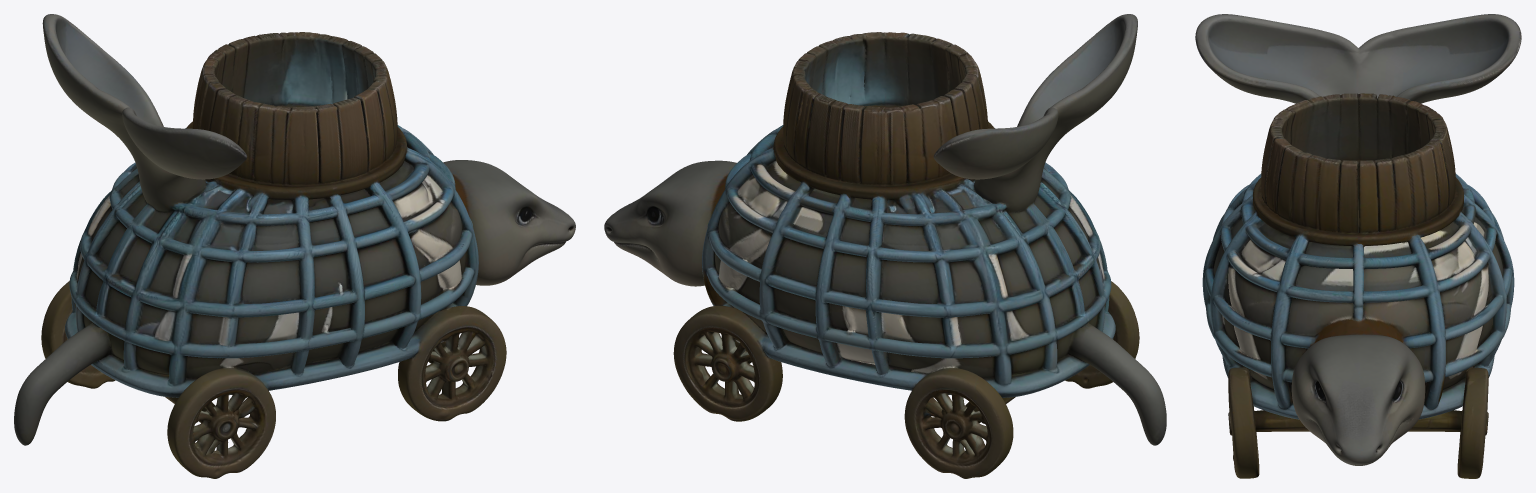
The picture shows the model from 3 angles, left to right: view 1: azimuth 30°, elevation 25°; view 2: azimuth 150°, elevation 25°; view 3: azimuth 270°, elevation 25°; orthographic projection. The views are drawn at different scales.
Visible parts, largest first — view 1: tripo_node_2254d4fa-7bd0-4ed2-9b63-aa5da45f50e7; view 2: tripo_node_2254d4fa-7bd0-4ed2-9b63-aa5da45f50e7; view 3: tripo_node_2254d4fa-7bd0-4ed2-9b63-aa5da45f50e7.
Part boxes in pixels (<box>): tripo_node_2254d4fa-7bd0-4ed2-9b63-aa5da45f50e7: <box>14,14,575,478</box>; tripo_node_2254d4fa-7bd0-4ed2-9b63-aa5da45f50e7: <box>604,14,1166,478</box>; tripo_node_2254d4fa-7bd0-4ed2-9b63-aa5da45f50e7: <box>1195,14,1521,478</box>.
Bounding box in the file's own units: 1 × 0.6231 × 0.546.
1 material, 1 textured.
